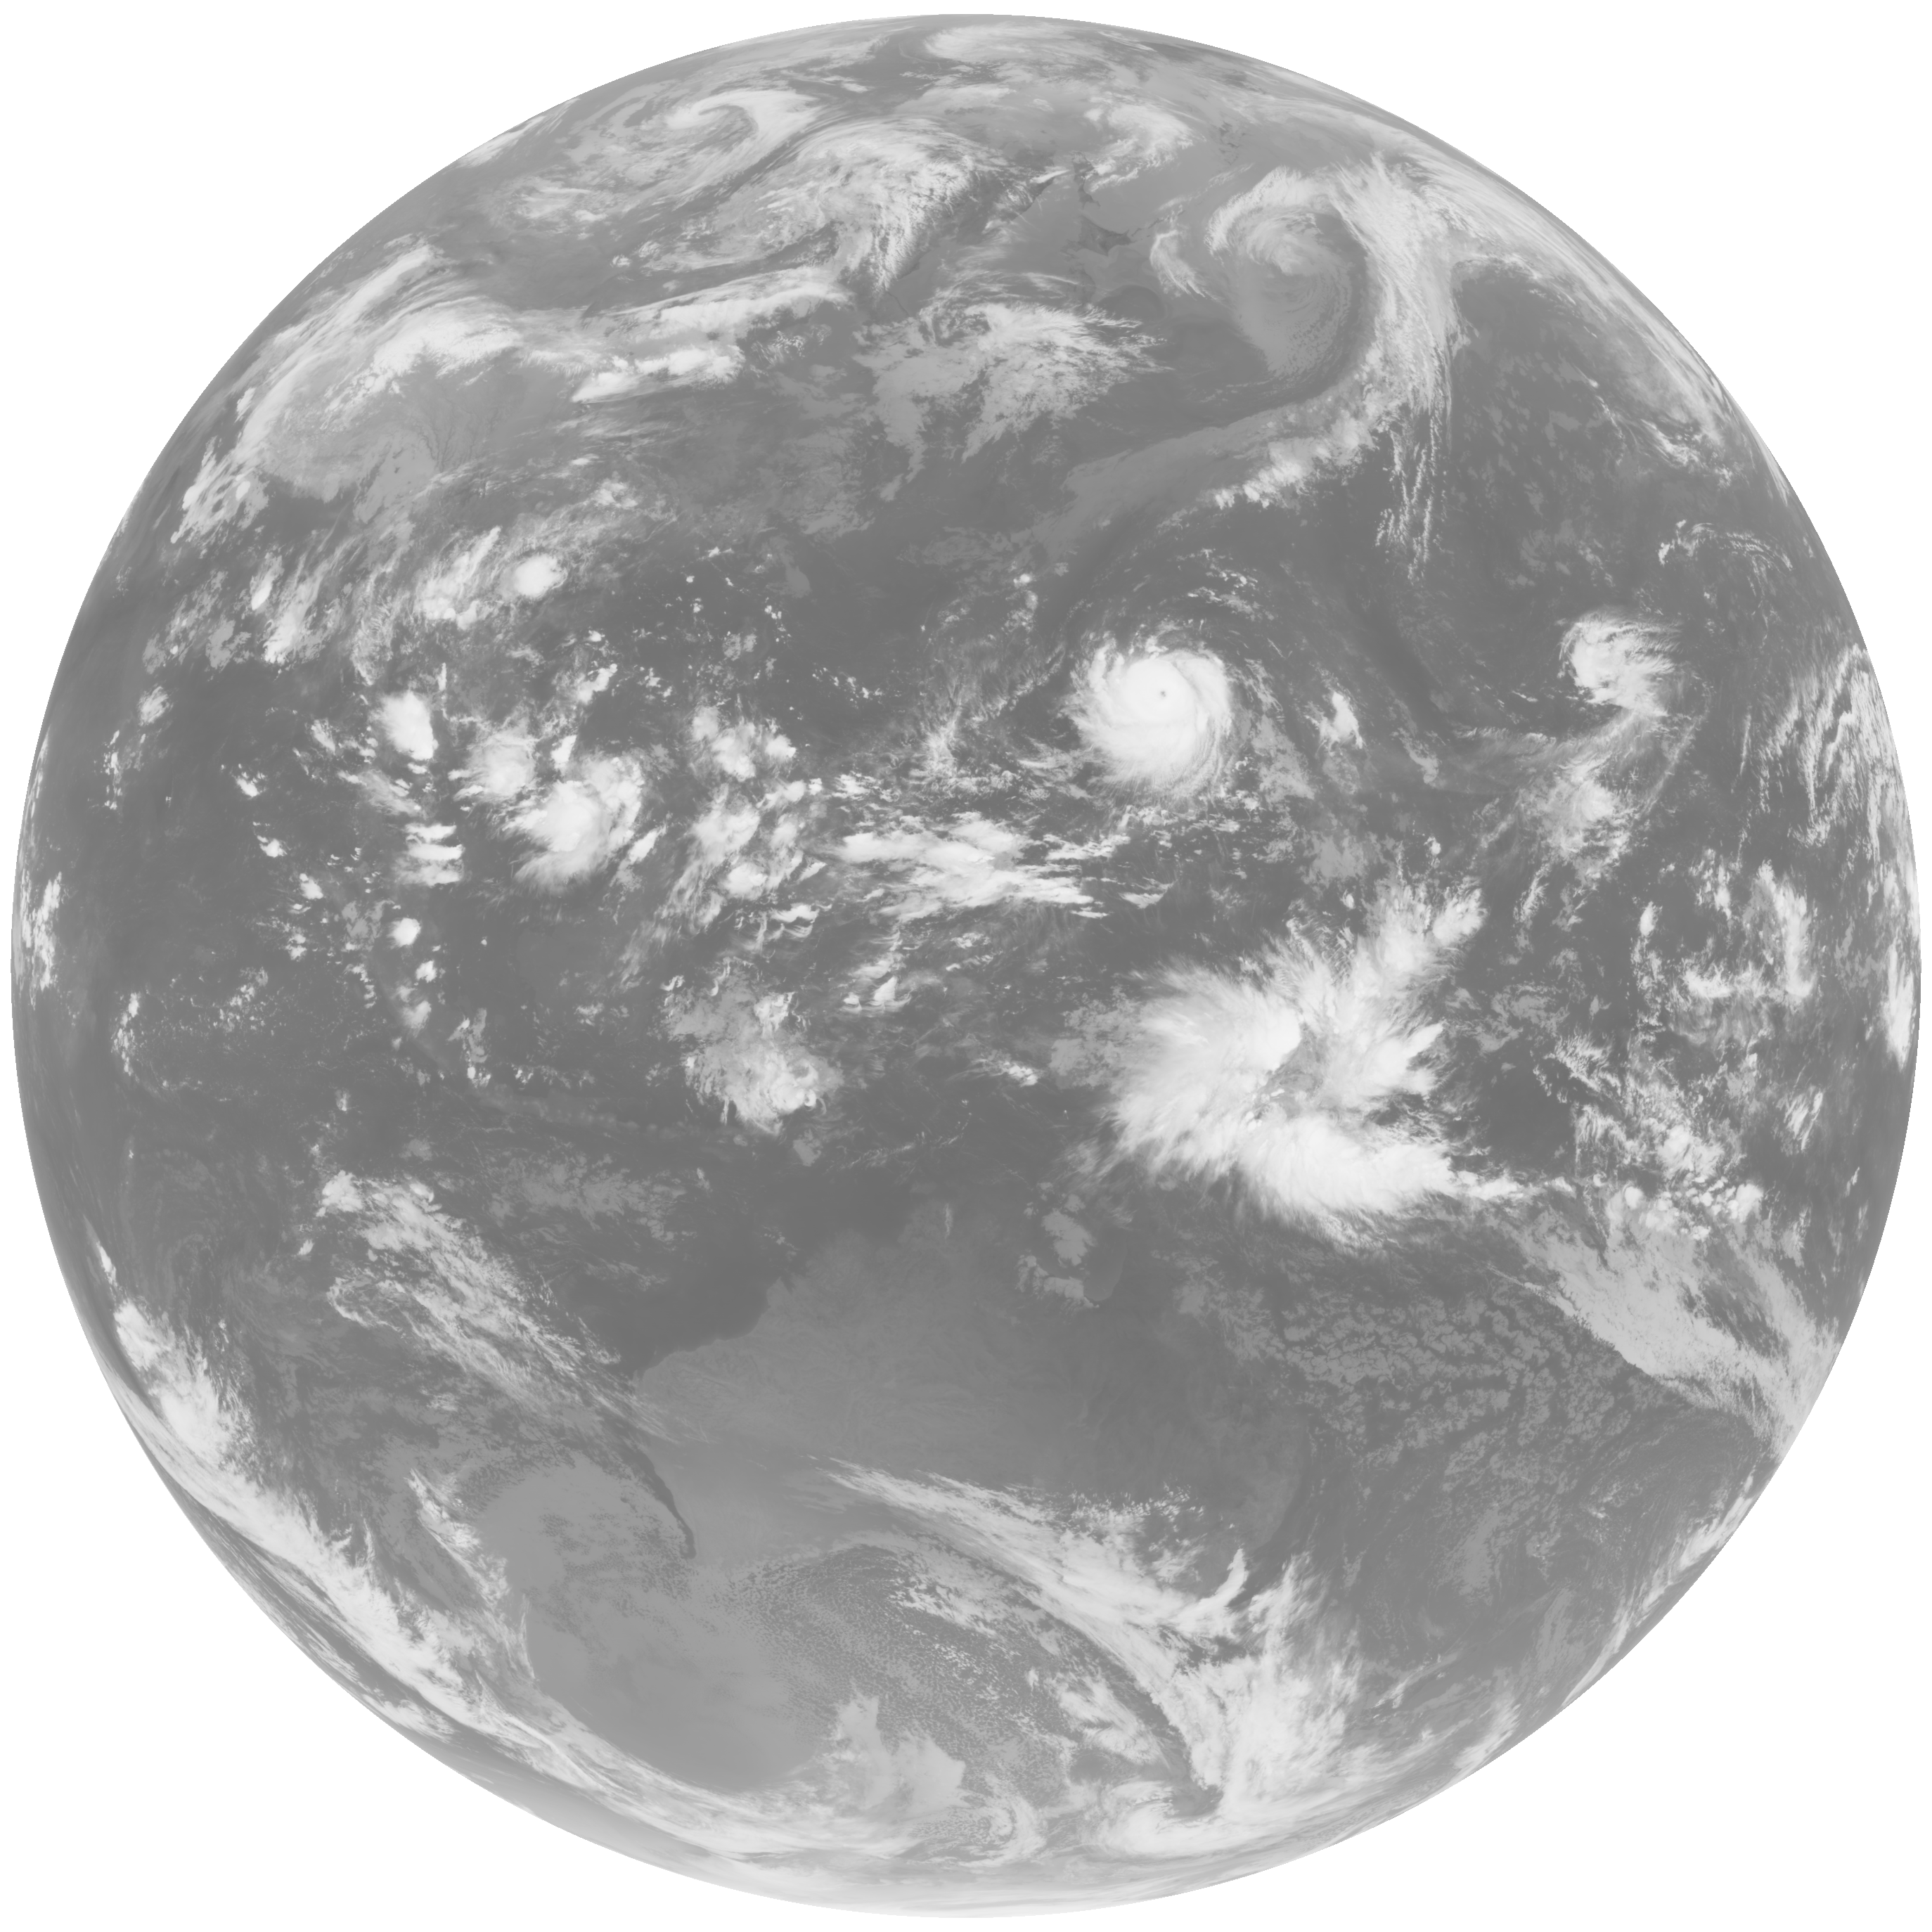typhoon: (922, 571, 1364, 913)
